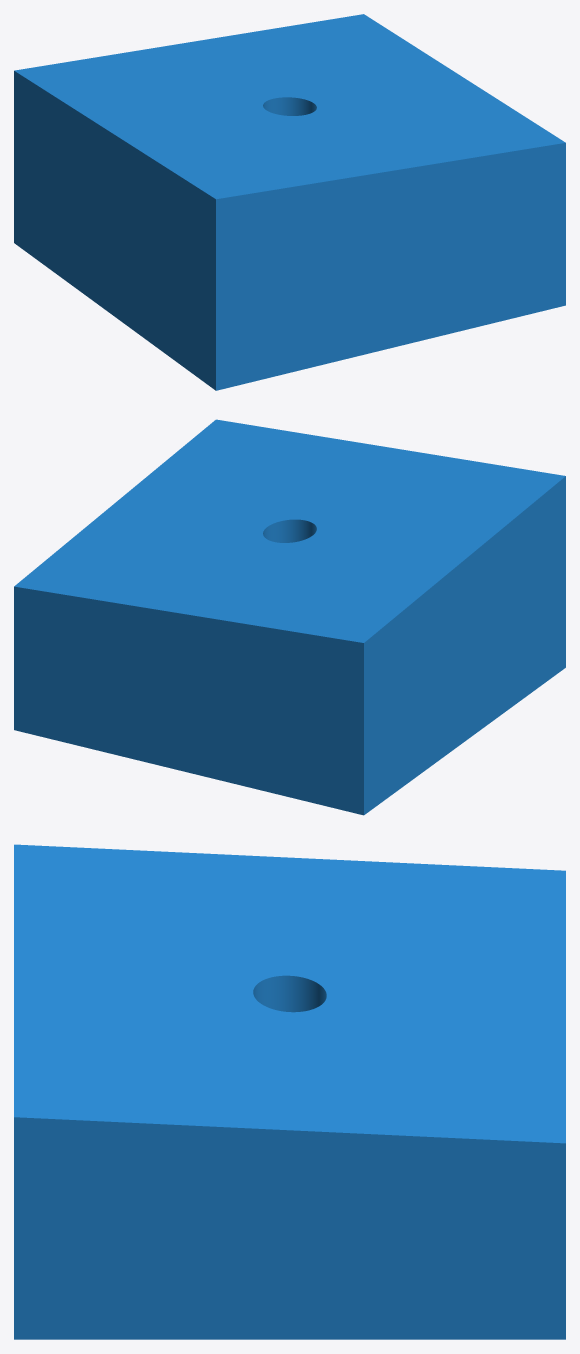
Rendered from bj_calco_1.glb.
3 renders of one model, top to bottom at view 1: azimuth 30°, elevation 25°; view 2: azimuth 150°, elevation 25°; view 3: azimuth 270°, elevation 25°, orthographic. The views are drawn at different scales.
Visible parts, largest first — view 1: bj_calco_1; view 2: bj_calco_1; view 3: bj_calco_1.
Boxes of the visible parts, x1=… form: bj_calco_1: x1=14, y1=14, x2=565, y2=390; bj_calco_1: x1=14, y1=419, x2=565, y2=815; bj_calco_1: x1=14, y1=844, x2=565, y2=1339.
Size of the model in its own units: 30 by 15.69 by 30.
